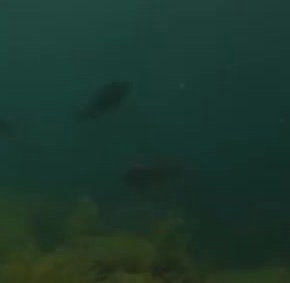smallfish: (76, 76, 126, 125)
